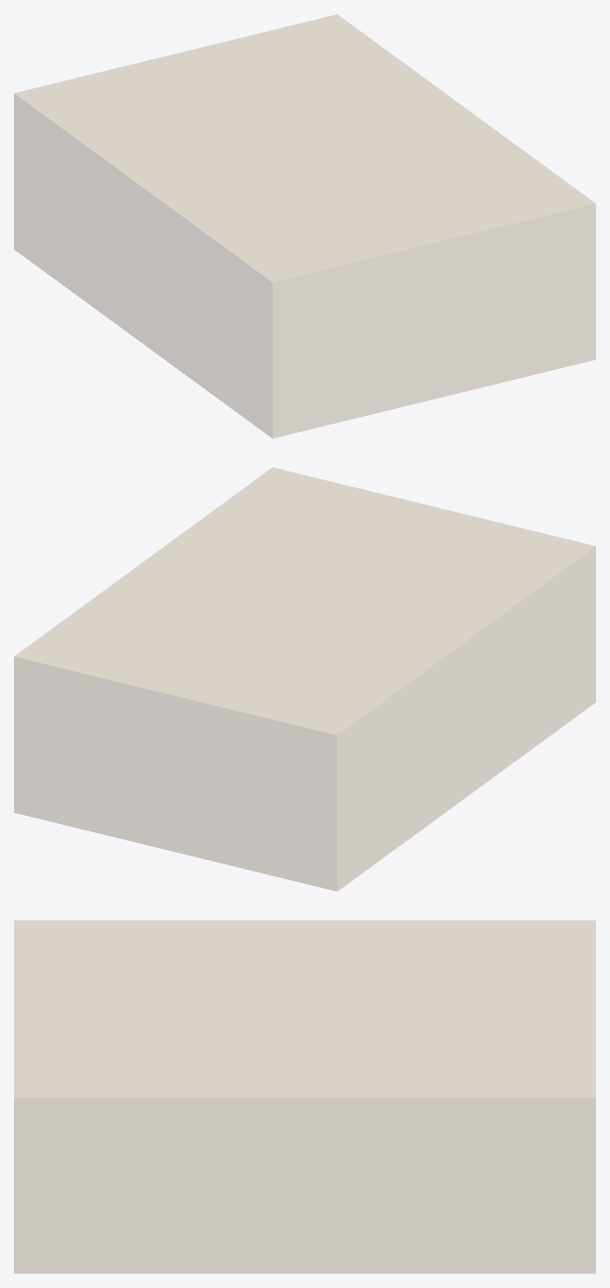
The model's file is OS-Level3-ChamberI-LOD1.glb.
3 views of the same model, one above another, from view 1: azimuth 30°, elevation 25°; view 2: azimuth 150°, elevation 25°; view 3: azimuth 270°, elevation 25° (orthographic). The views are drawn at different scales.
Parts seen in each view (by area): view 1: Chamber I; view 2: Chamber I; view 3: Chamber I.
Boxes of the visible parts, bbox=[...] form: Chamber I: bbox=[14, 14, 595, 438]; Chamber I: bbox=[14, 467, 595, 891]; Chamber I: bbox=[14, 920, 595, 1273].
Size of the model in its own units: 6.5 by 3 by 9.
